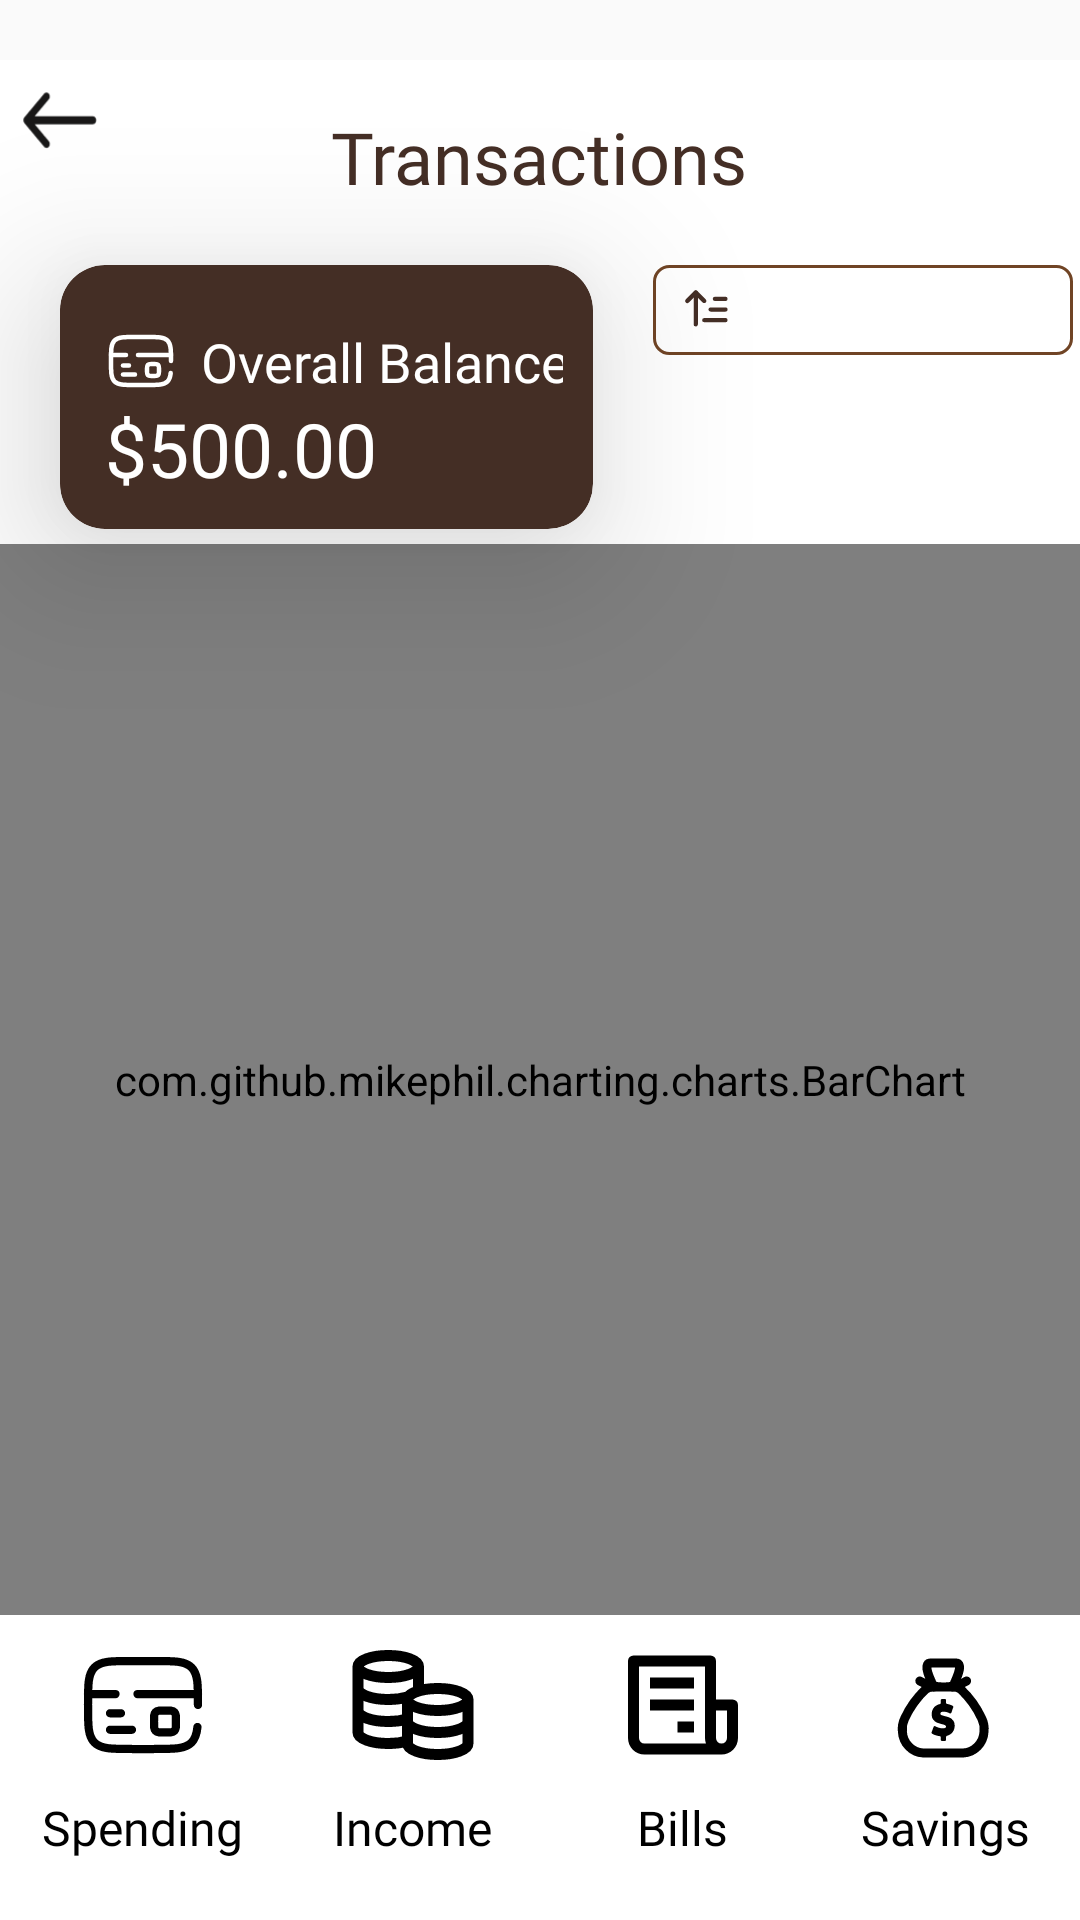

Named icons in this screenshot (1080×1920) and their bounding boxes, [x1=x1, y1=y1, x2=x2, y2=y2]:
left arrow: [x1=23, y1=92, x2=97, y2=148]
money bag: [x1=897, y1=1658, x2=989, y2=1758]
